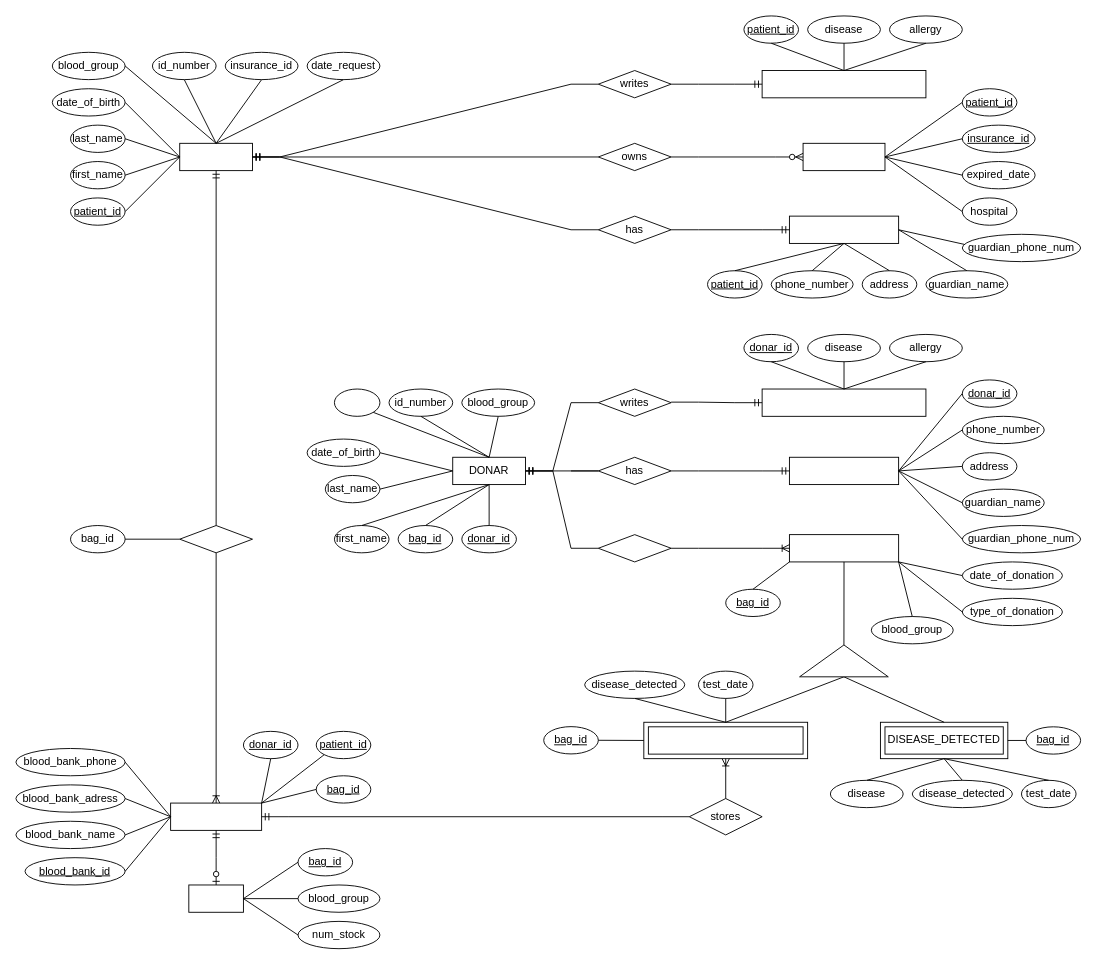
Image size: 1097x965. Some labels were removed from this diagram. The shapes that lost their labels are listed below. From the top down, each one's centre as x and y in pixels, then its label:
the point at 843,84: MEDICAL_REPORT_PATIENT
the point at 216,156: PATIENT
the point at 843,156: INSURANCE
the point at 844,229: PATIENT_CONTACT
the point at 357,402: age
the point at 843,402: MEDICAL_REPORT_DONAR
the point at 844,470: DONAR_CONTACT
the point at 216,539: requests
the point at 634,548: donates
the point at 844,548: BLOOD_BAG_INFO
the point at 843,660: devided_by
the point at 725,740: NONE_DISEASE_DETECTED
the point at 216,816: BLOOD_BANK
the point at 215,898: STOCK
